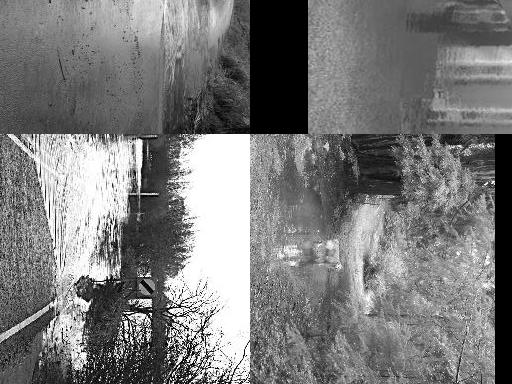road_waterlogging: (427, 6, 512, 111), (139, 0, 193, 134), (287, 171, 324, 299)
